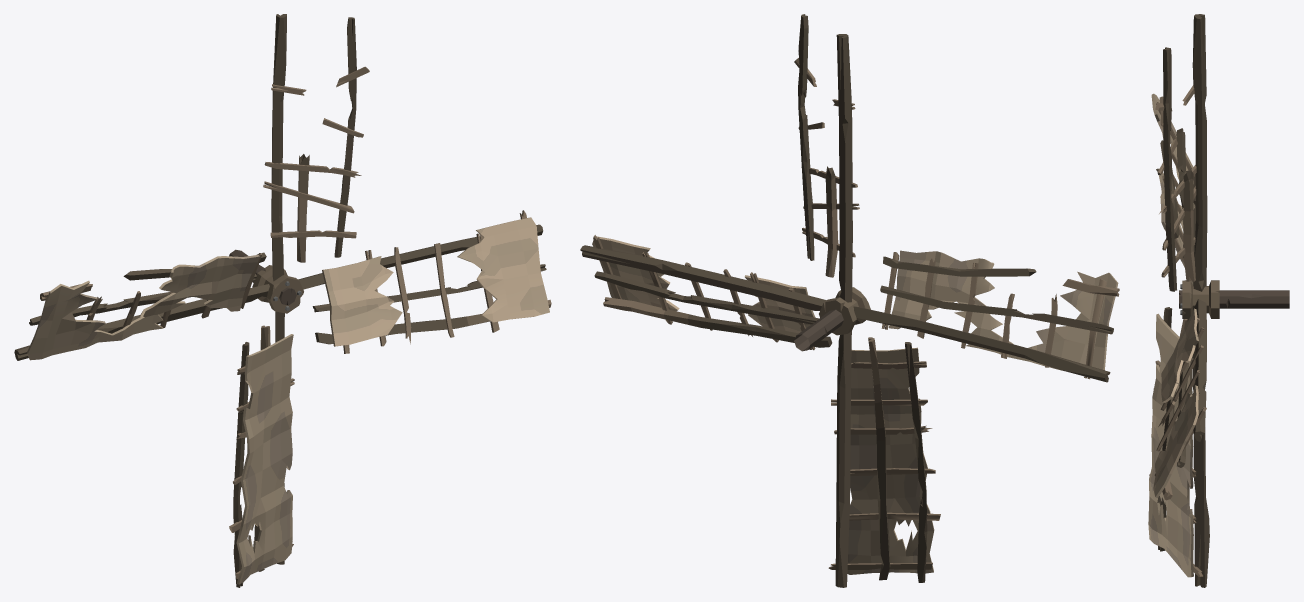
File: SM_Bld_Windmill_02_Blades_01.glb
3 renders of one model, left to right at view 1: azimuth 30°, elevation 25°; view 2: azimuth 150°, elevation 25°; view 3: azimuth 270°, elevation 25°, orthographic. The views are drawn at different scales.
Visible parts, largest first — view 1: SM_Bld_Windmill_02_Blades_01; view 2: SM_Bld_Windmill_02_Blades_01; view 3: SM_Bld_Windmill_02_Blades_01.
Part boxes in pixels (x1,y1,x2,y2): SM_Bld_Windmill_02_Blades_01: (14,14,551,587); SM_Bld_Windmill_02_Blades_01: (580,14,1119,587); SM_Bld_Windmill_02_Blades_01: (1148,14,1289,587).
Bounding box in the file's own units: 9.61 × 9.61 × 2.16.
1 material, 1 textured.
